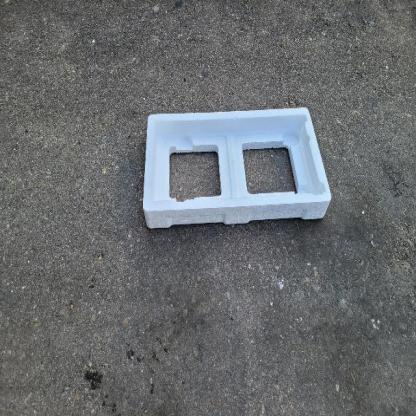Glass Cup: (142, 107, 332, 230), (143, 107, 332, 228)
